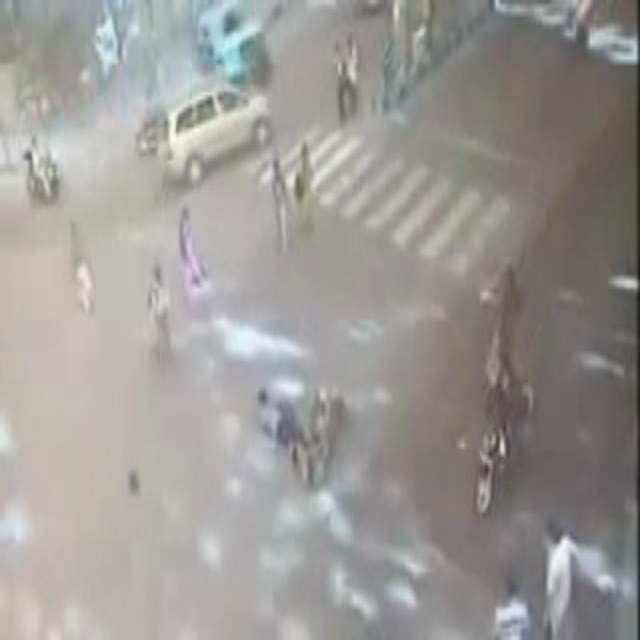acc: (228, 366, 364, 484)
